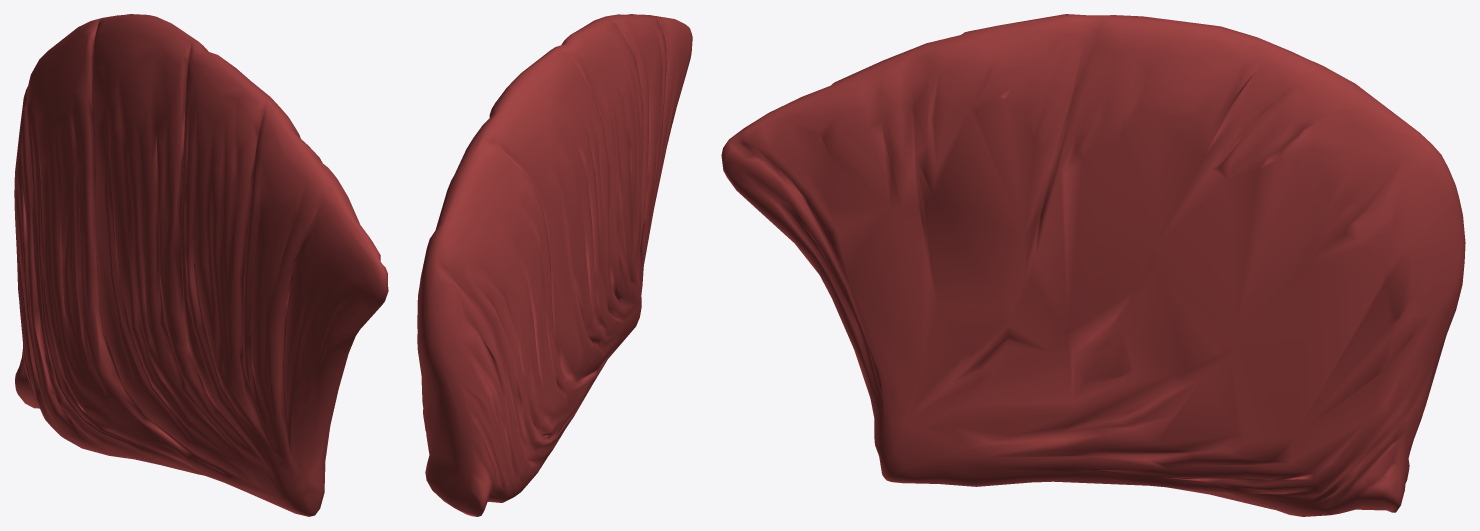
Rendered from genioglossus-muscle-r.glb.
3 views of the same model, side by side, from view 1: azimuth 30°, elevation 25°; view 2: azimuth 150°, elevation 25°; view 3: azimuth 270°, elevation 25° (orthographic). The views are drawn at different scales.
Visible parts, largest first — view 1: Genioglossus muscle.r; view 2: Genioglossus muscle.r; view 3: Genioglossus muscle.r.
Part boxes in pixels (x1,y1,x2,y2): Genioglossus muscle.r: (14,14,388,516); Genioglossus muscle.r: (417,14,692,516); Genioglossus muscle.r: (721,14,1465,516).
Bounding box in the file's own units: 0.00761 × 0.0361 × 0.0476.
